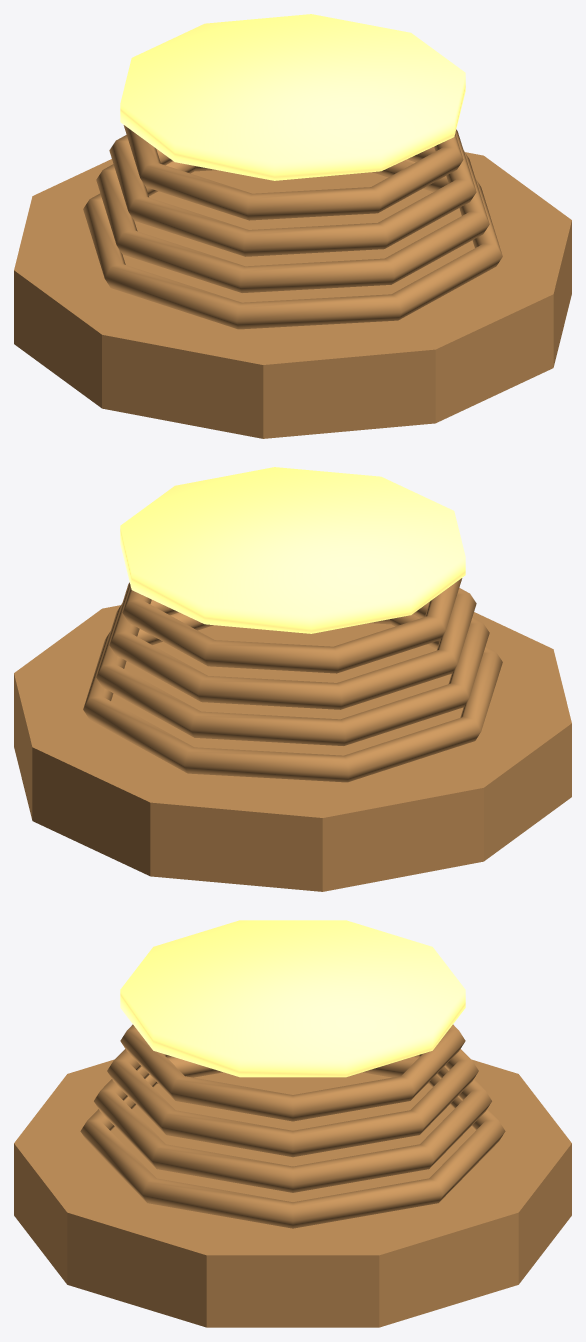
The model's file is Gimmick_JumpPad.fbx.
The picture shows the model from 3 angles, top to bottom: view 1: azimuth 30°, elevation 25°; view 2: azimuth 150°, elevation 25°; view 3: azimuth 270°, elevation 25°; orthographic projection. The views are drawn at different scales.
Visible parts, largest first — view 1: Gimmick_JumpPad_Base, Gimmick_JumpPad, Gimmick_JumpPad_Top; view 2: Gimmick_JumpPad_Base, Gimmick_JumpPad, Gimmick_JumpPad_Top; view 3: Gimmick_JumpPad_Base, Gimmick_JumpPad, Gimmick_JumpPad_Top.
Part boxes in pixels (x1,y1,x2,y2): Gimmick_JumpPad_Base: (14,152,571,438); Gimmick_JumpPad: (83,125,502,329); Gimmick_JumpPad_Top: (120,14,465,180); Gimmick_JumpPad_Base: (14,605,571,891); Gimmick_JumpPad: (83,578,502,782); Gimmick_JumpPad_Top: (120,467,465,633); Gimmick_JumpPad_Base: (14,1059,571,1327); Gimmick_JumpPad: (80,1024,505,1228); Gimmick_JumpPad_Top: (120,920,465,1077).
Size of the model in its own units: 0.7989 by 0.375 by 0.84.
